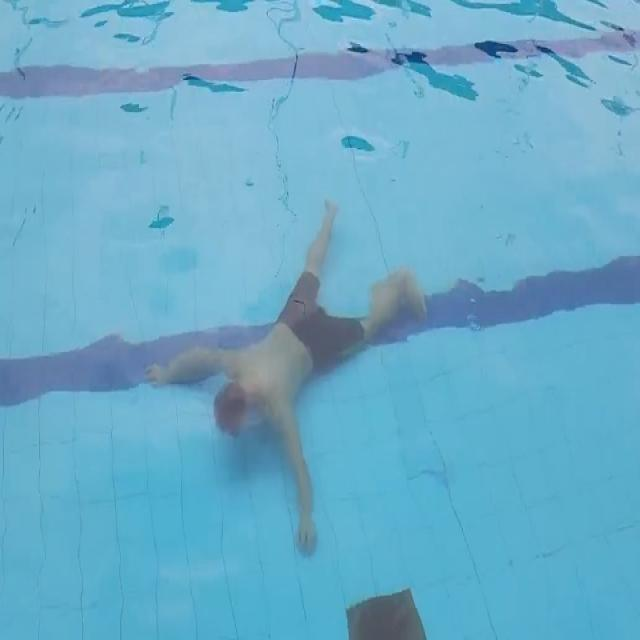Drowning: (146, 196, 427, 555)
